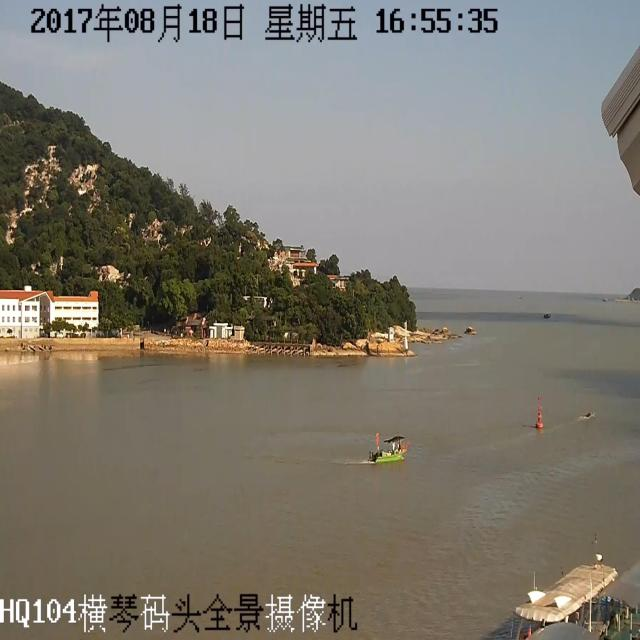buoy: (526, 387, 554, 433)
fishing boat: (358, 417, 417, 473)
reef: (612, 266, 640, 308)
